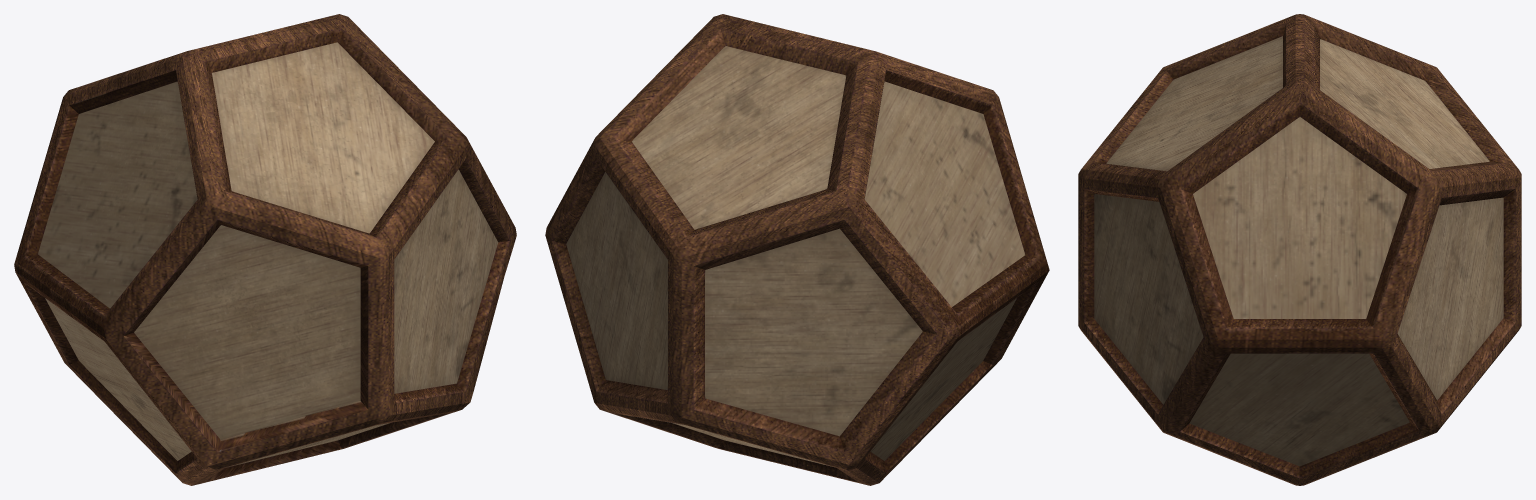
The picture shows the model from 3 angles, left to right: view 1: azimuth 30°, elevation 25°; view 2: azimuth 150°, elevation 25°; view 3: azimuth 270°, elevation 25°; orthographic projection. The views are drawn at different scales.
Parts seen in each view (by area): view 1: polySurface3; view 2: polySurface3; view 3: polySurface3.
Part boxes in pixels (bbox=[...]): polySurface3: bbox=[14, 14, 516, 485]; polySurface3: bbox=[545, 14, 1049, 485]; polySurface3: bbox=[1078, 14, 1521, 485].
Bounding box in the file's own units: 0.0348 × 0.0348 × 0.0348.
1 material, 1 textured.
